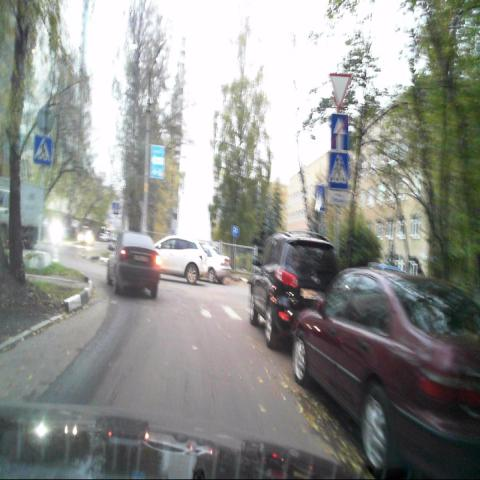5_6: (332, 115, 348, 148)
